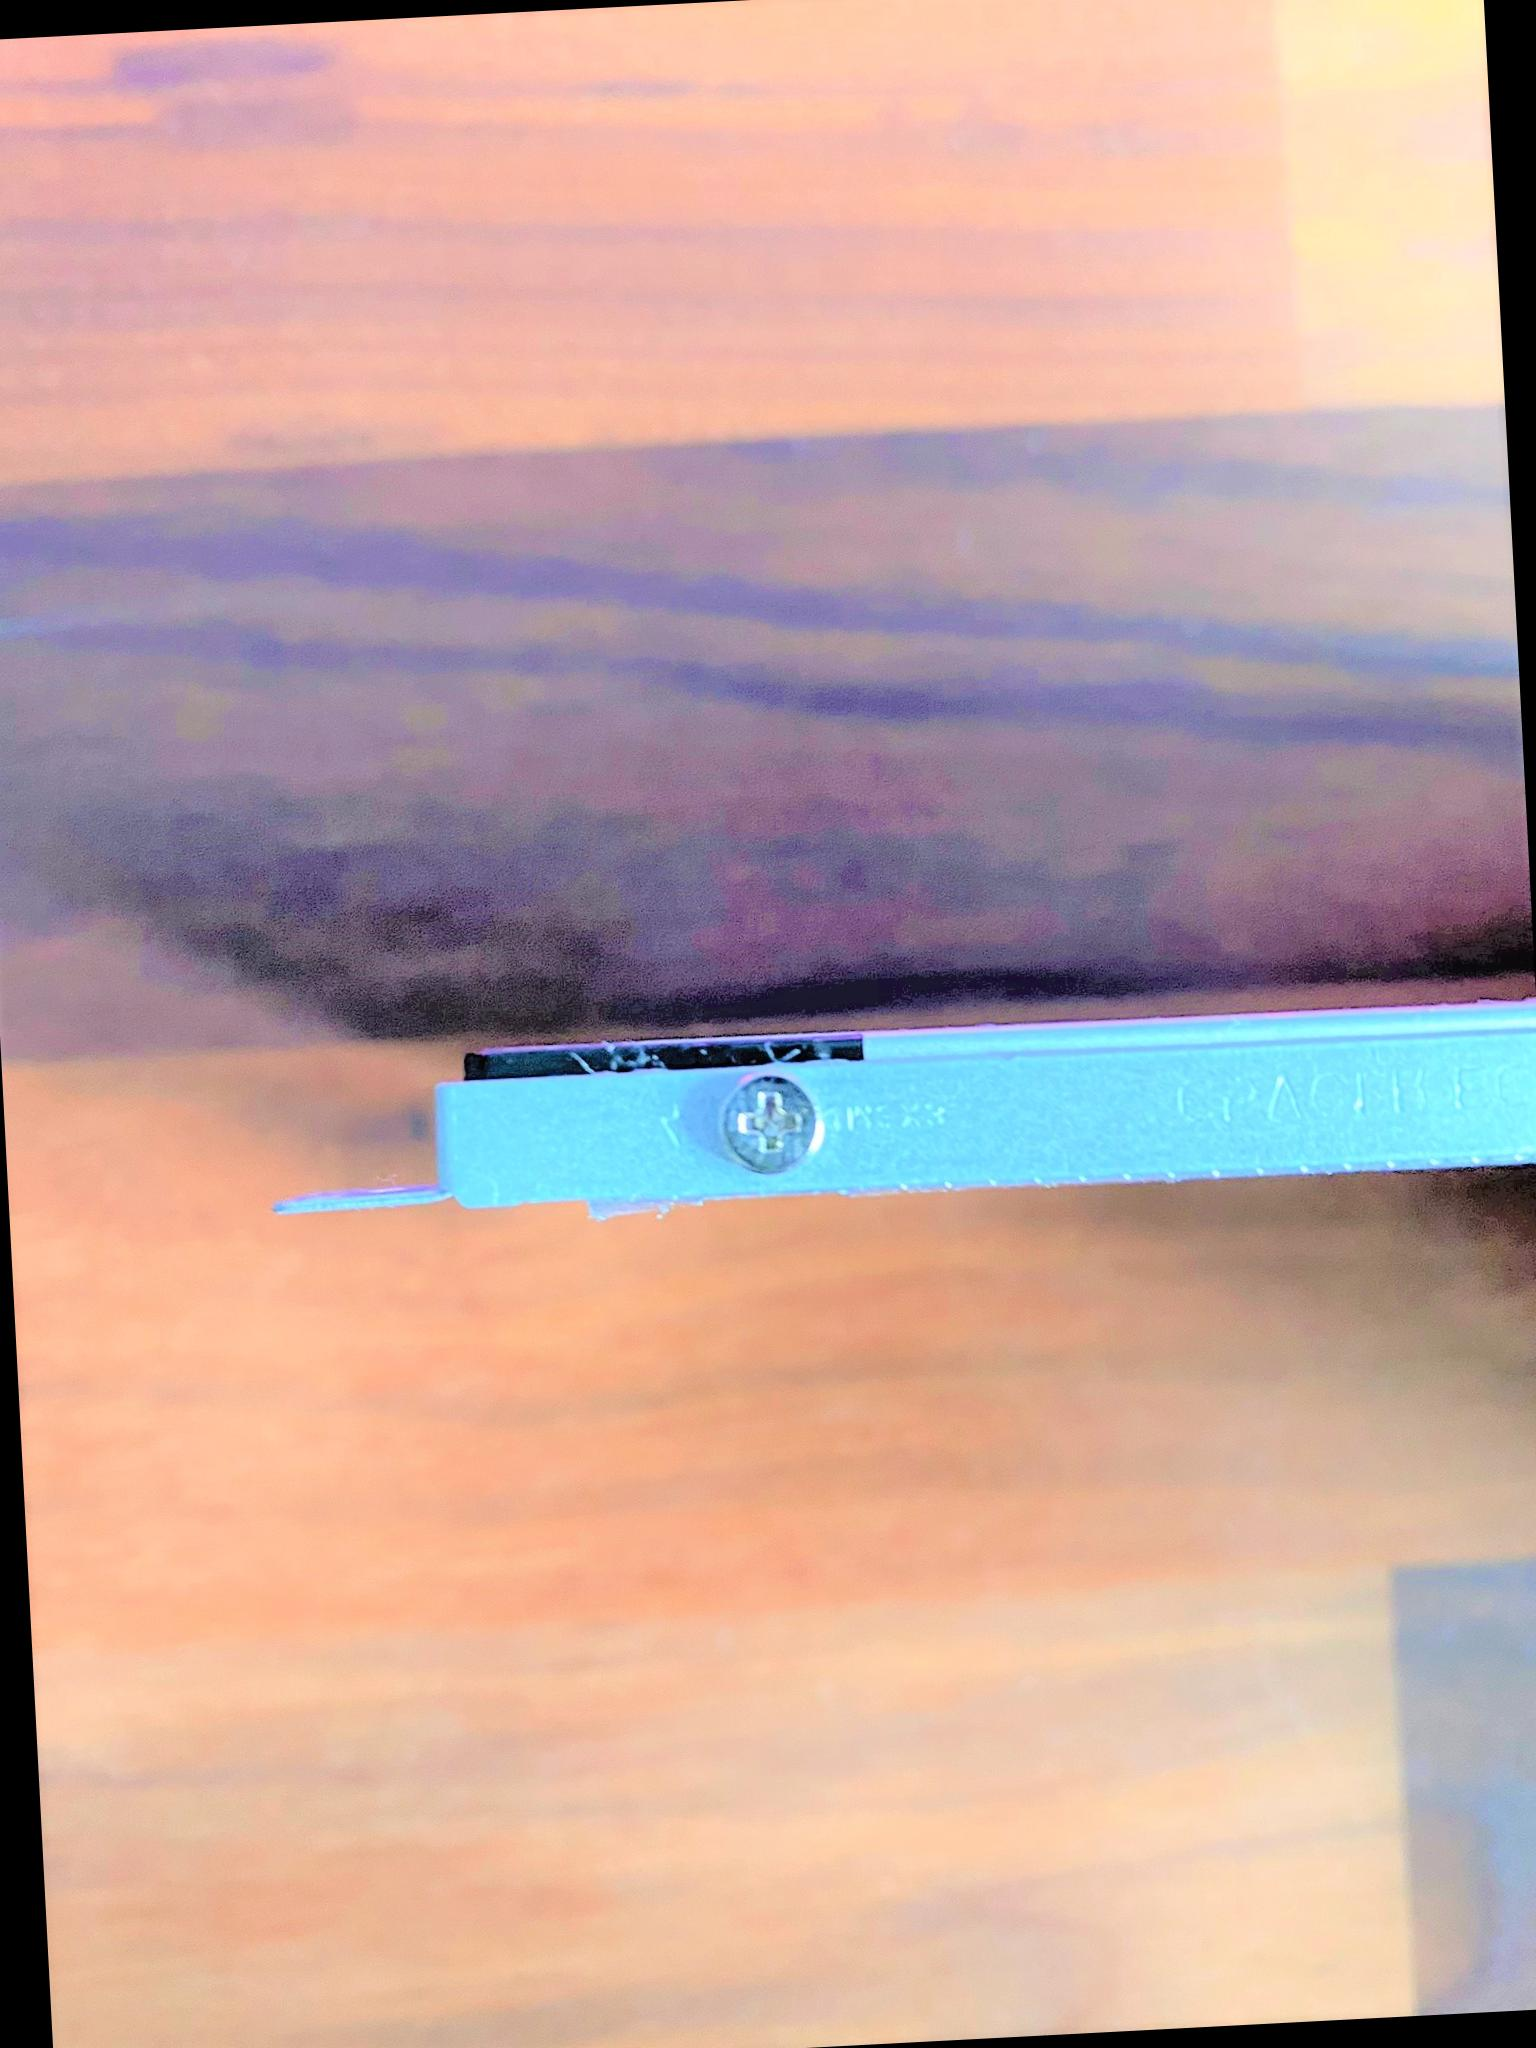PH: (713, 1069, 829, 1180)
